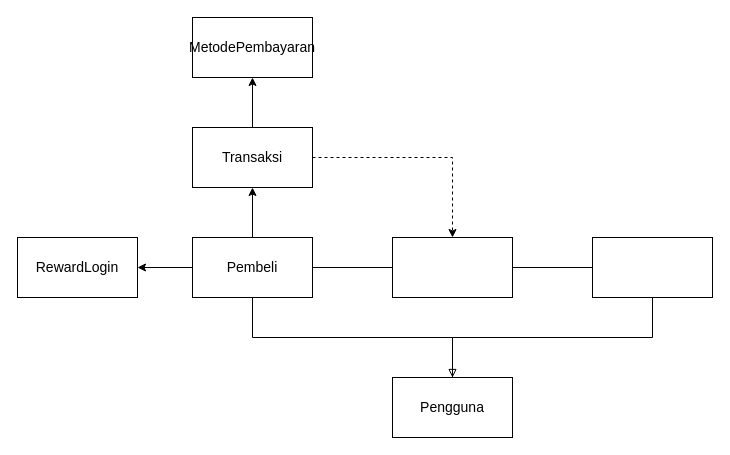
The diagram is 730 pixels wide and 455 high, and some of its shapes have lost their labels. Here are the shapes that lost their labels. From the top down, the box of each, then its label:
(392, 236, 512, 298): ListingMakanan
(592, 236, 712, 298): Penjual
